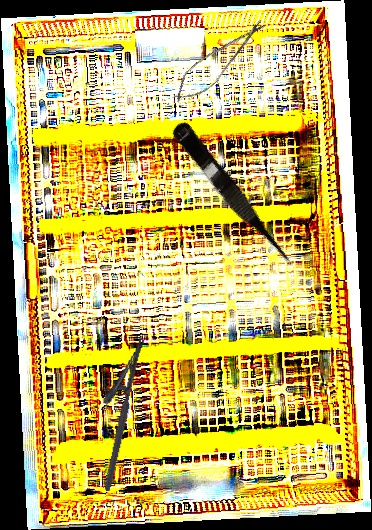Micro Scissor: (166, 118, 301, 277), (165, 10, 273, 112)
Needle Holder: (83, 332, 146, 492)
